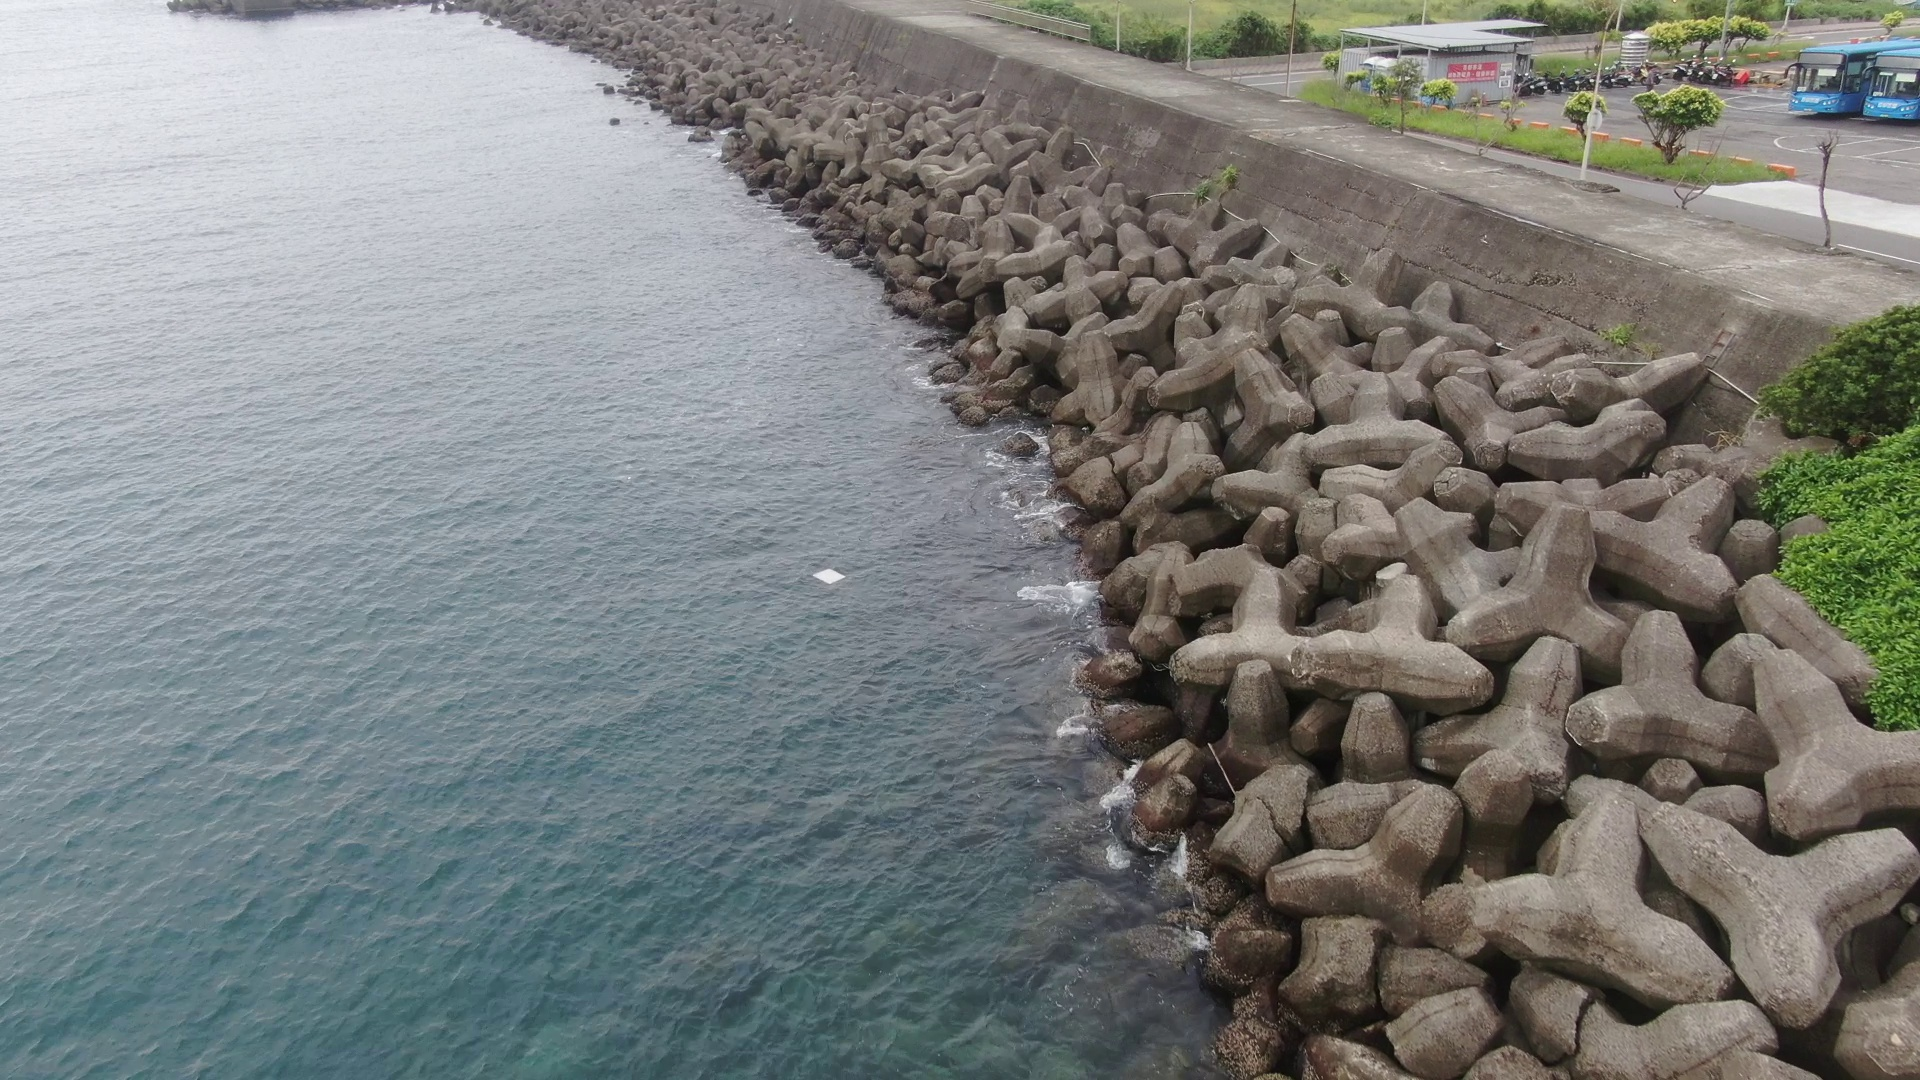garbage: (808, 563, 853, 589)
